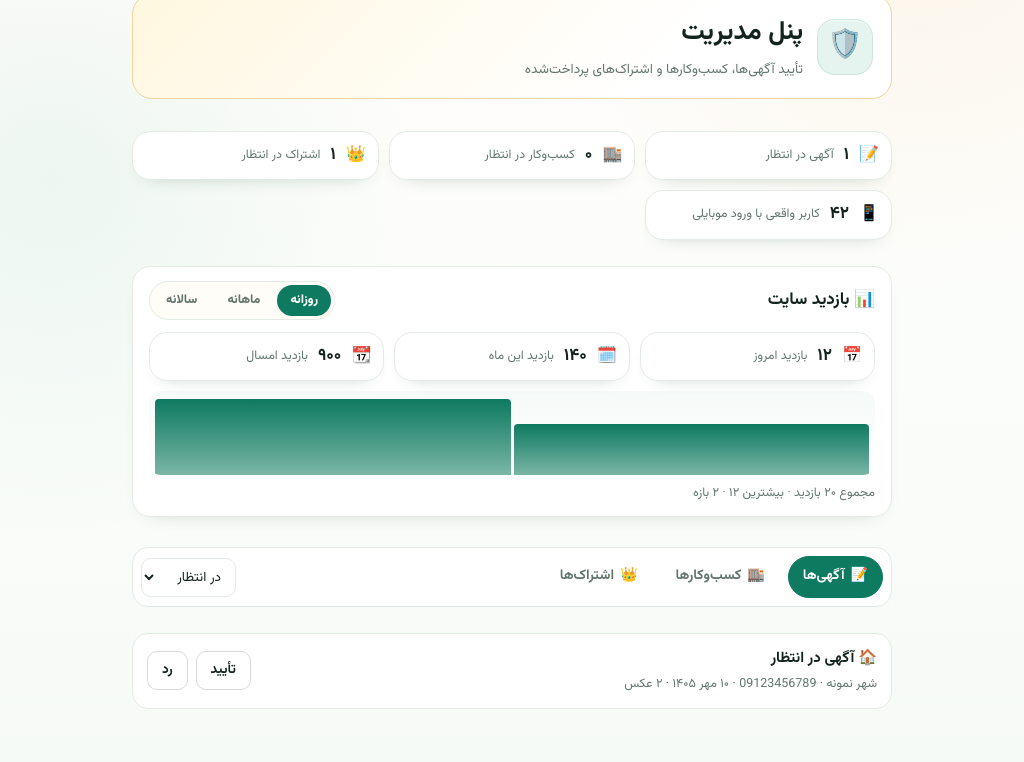
Test: AdminPanel › suspends an approved business with a reason (takes it off every public page)
The image size is (1024, 762).
Click the tab with test id "tab-businesses" at (720, 577), box [661, 556, 780, 598]
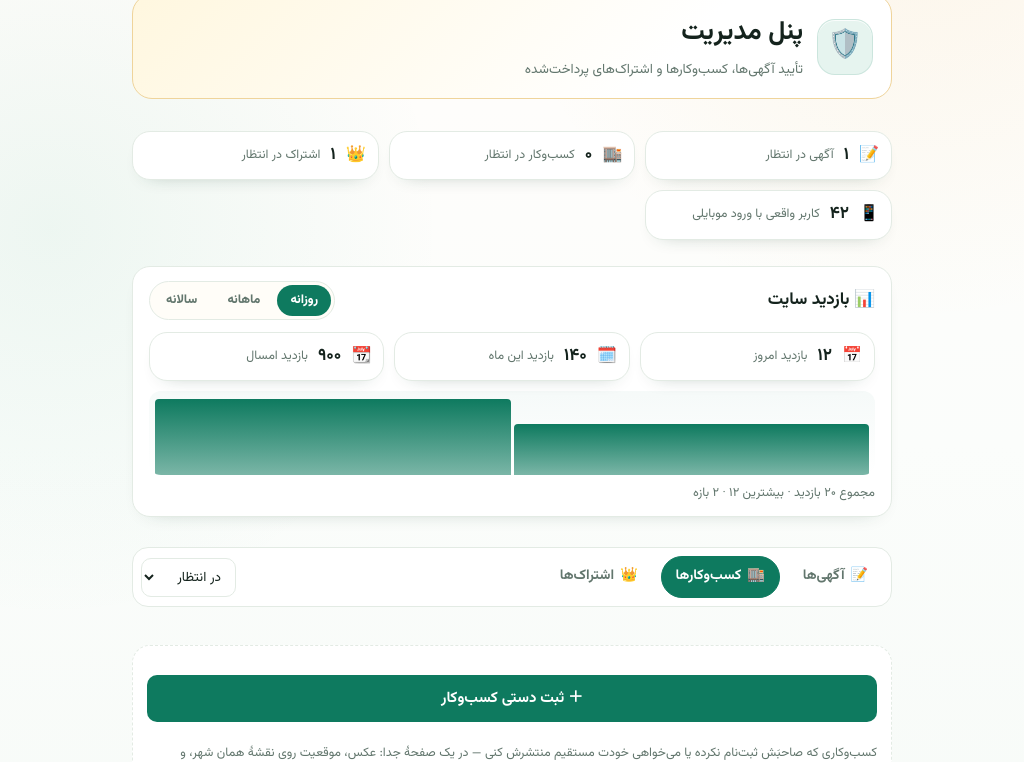
Select "تأیید شده" in the dropdown with test id "status-filter" at (188, 577), box [141, 558, 236, 597]
(page scrolled)
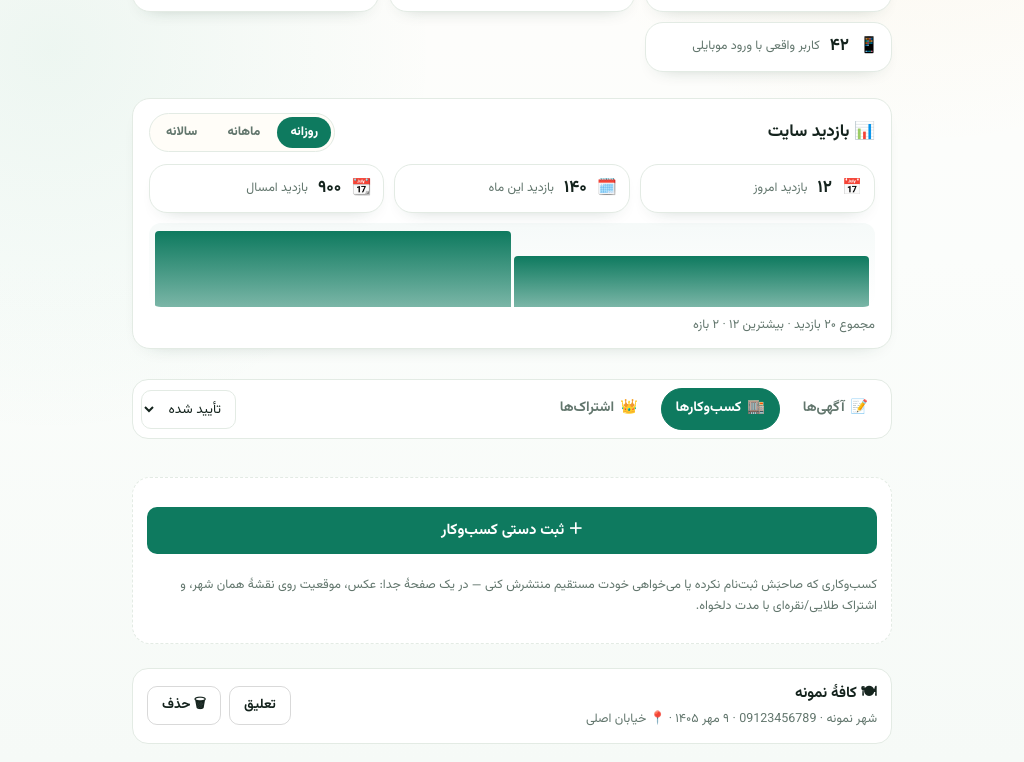
expect the button with test id "suspend-21" is shown: met
Click the button with test id "suspend-21" at (260, 706), box [229, 686, 291, 725]
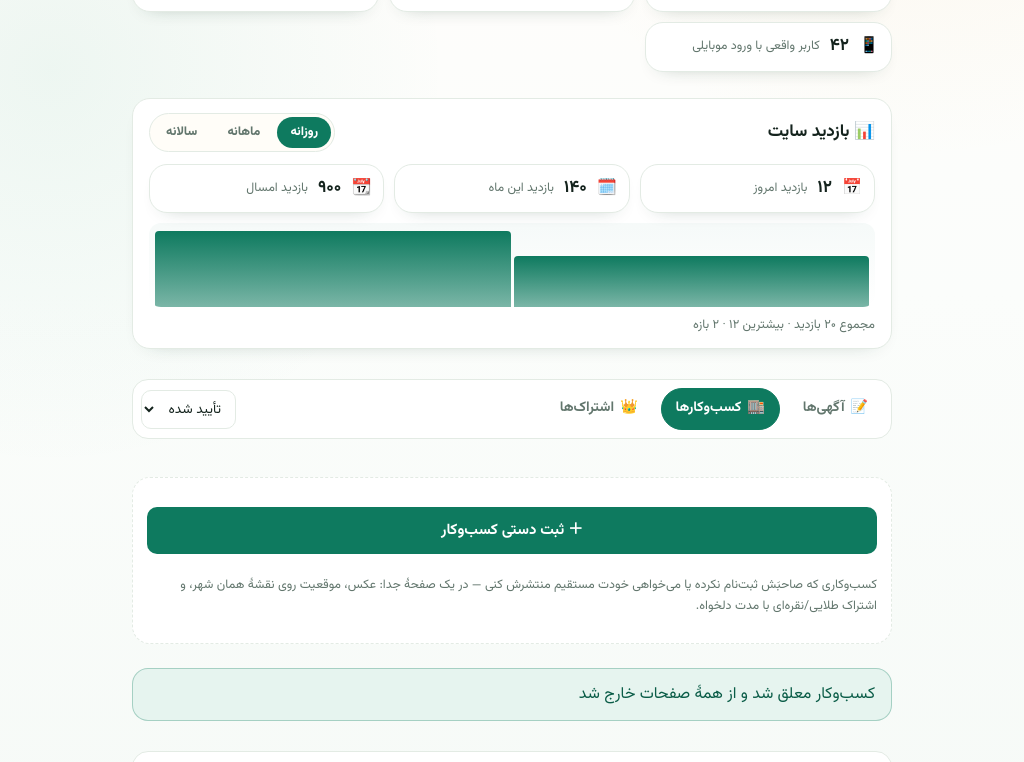
expect the message shows "معلق شد": met, box [579, 682, 875, 707]
